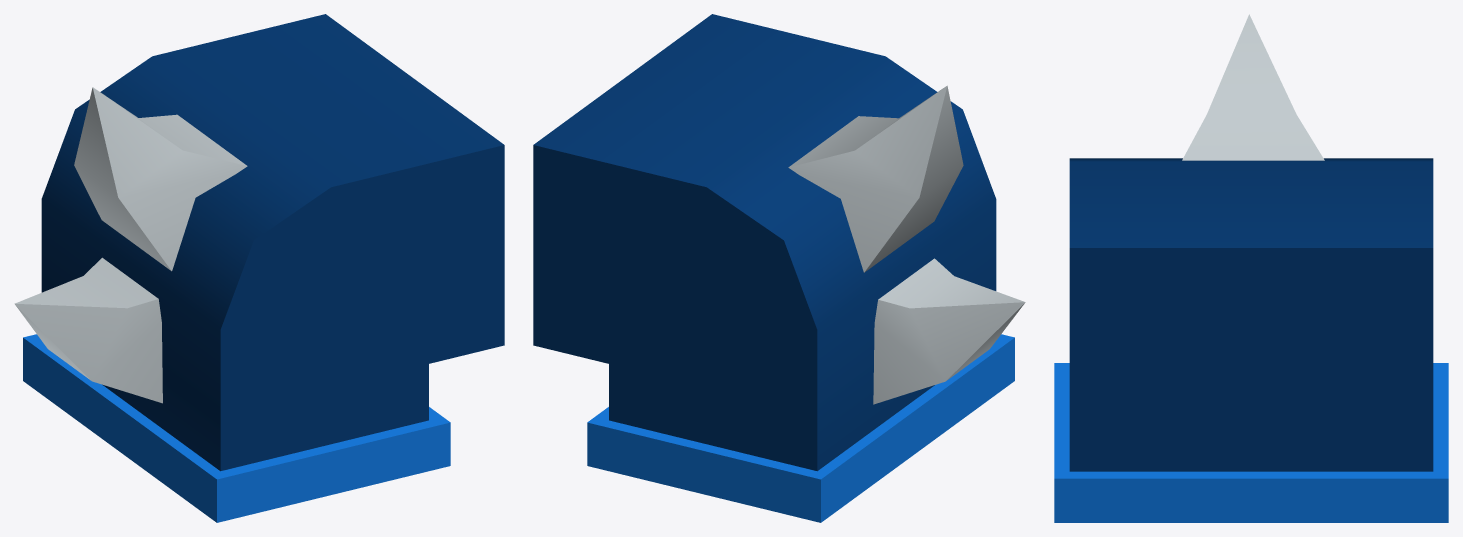
File: Shoulder 06.FBX
3 renders of one model, left to right at view 1: azimuth 30°, elevation 25°; view 2: azimuth 150°, elevation 25°; view 3: azimuth 270°, elevation 25°, orthographic.
Visible parts, largest first — view 1: Shoulder 06; view 2: Shoulder 06; view 3: Shoulder 06.
Part boxes in pixels (box(x1,y1,x2,y2)): Shoulder 06: box(14, 14, 504, 522); Shoulder 06: box(533, 14, 1025, 522); Shoulder 06: box(1054, 14, 1448, 522).
Size of the model in its own units: 30.4 by 26.94 by 25.42.
1 material, 1 textured.
